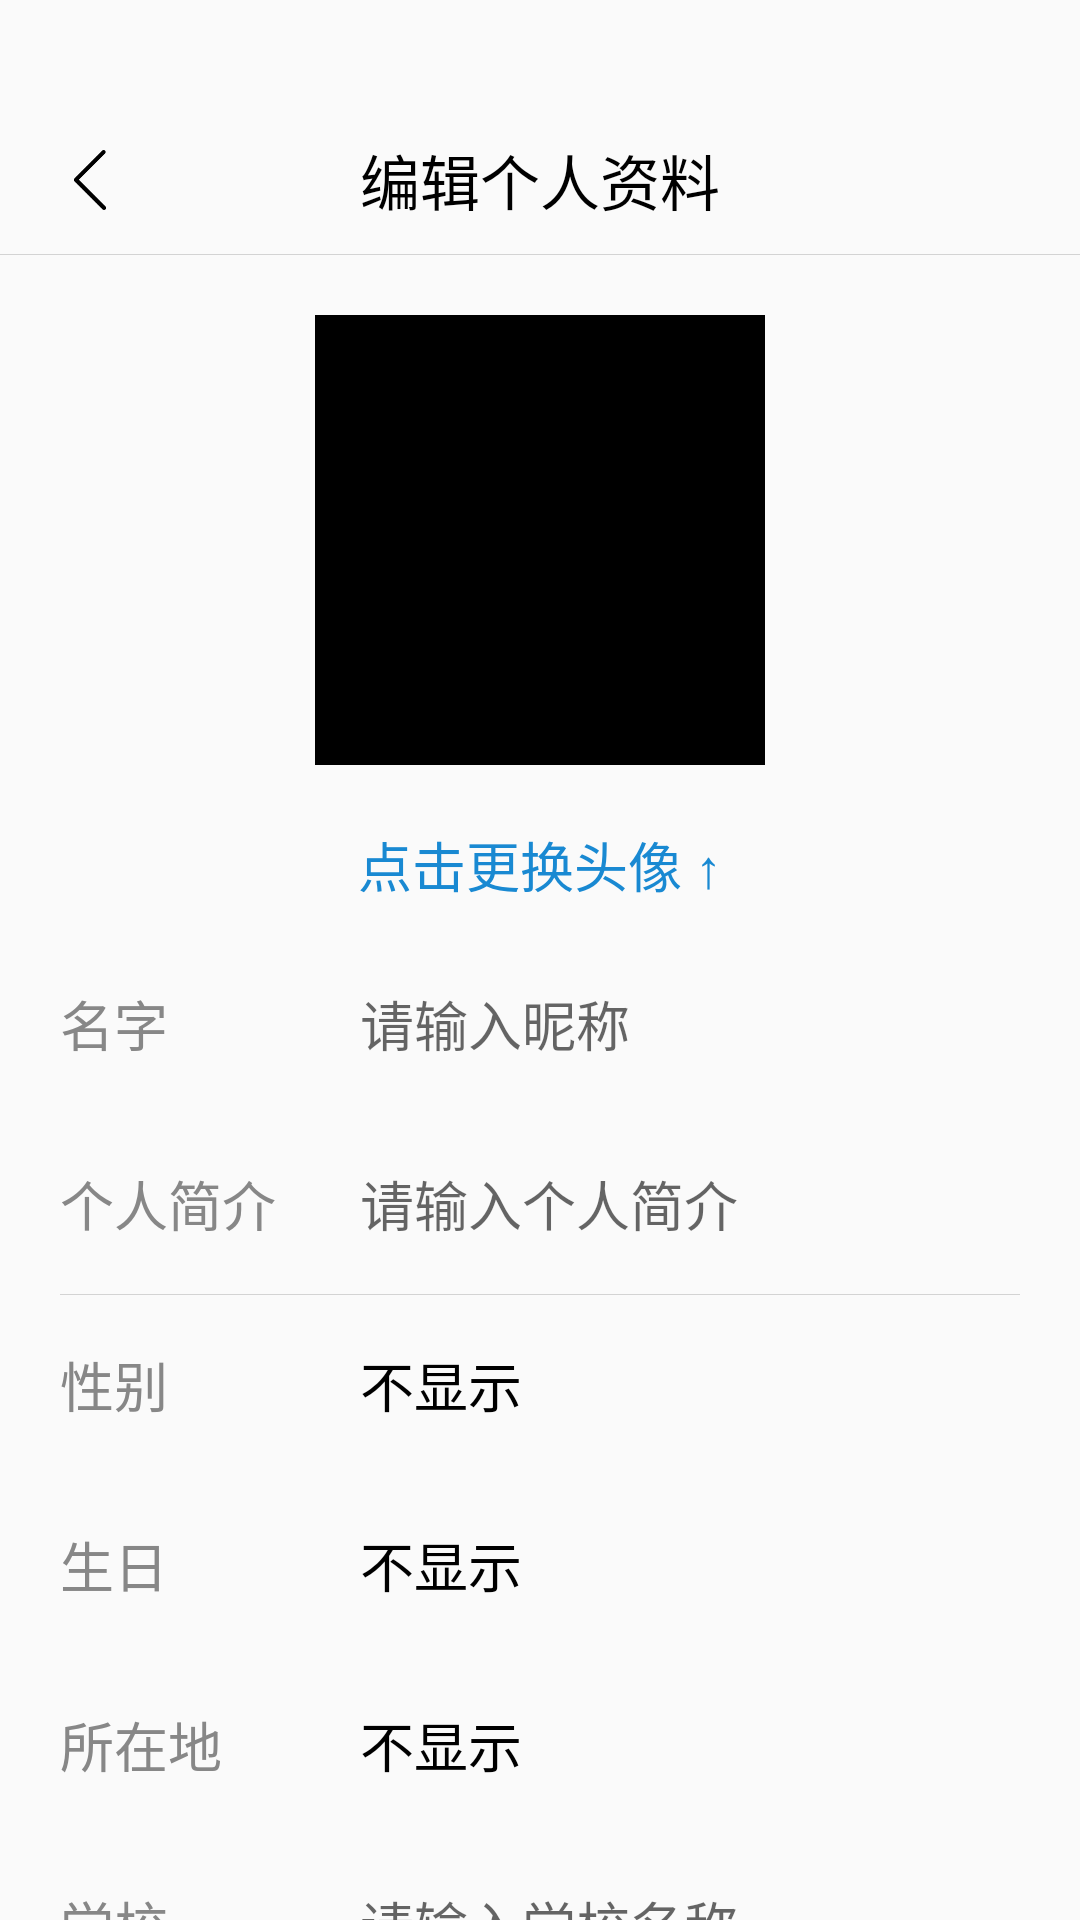

Where to tap for icons on this 1080*1920 app screen, as (x=x, y=y):
back: (x=90, y=180)
